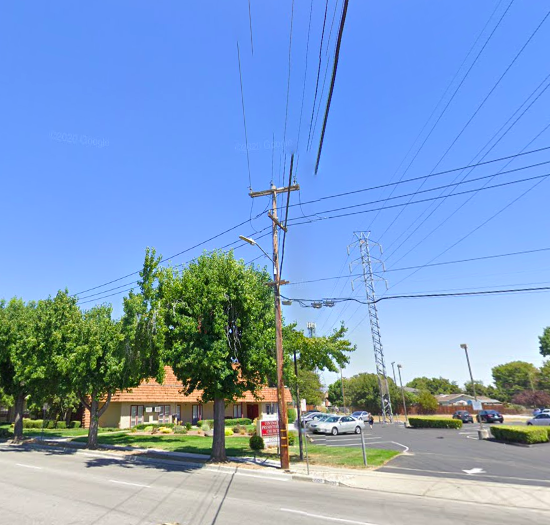utility_pole: (242, 174, 304, 236)
